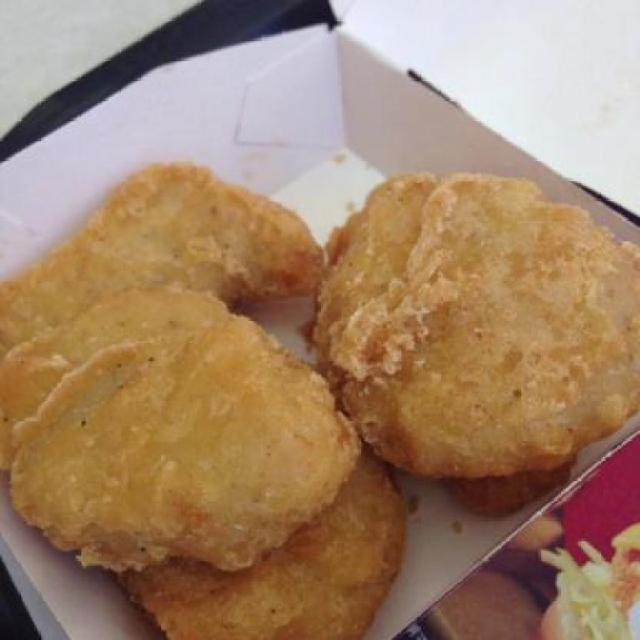Chicken nugget: (3, 151, 640, 638)
